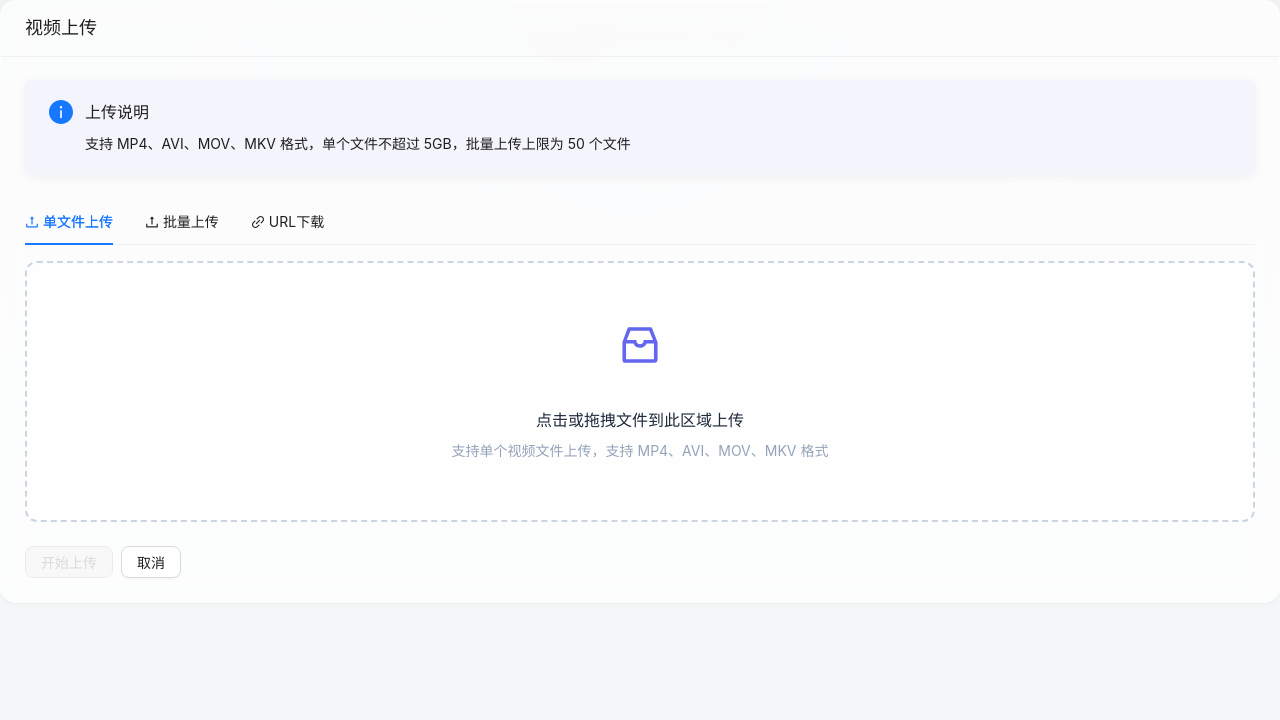
it: 文件上传交互测试 - File Upload Interactions › 应该能够切换到批量上传标签页
The image size is (1280, 720).
Click the tab "批量上传" at (182, 222), box [145,211,219,233]
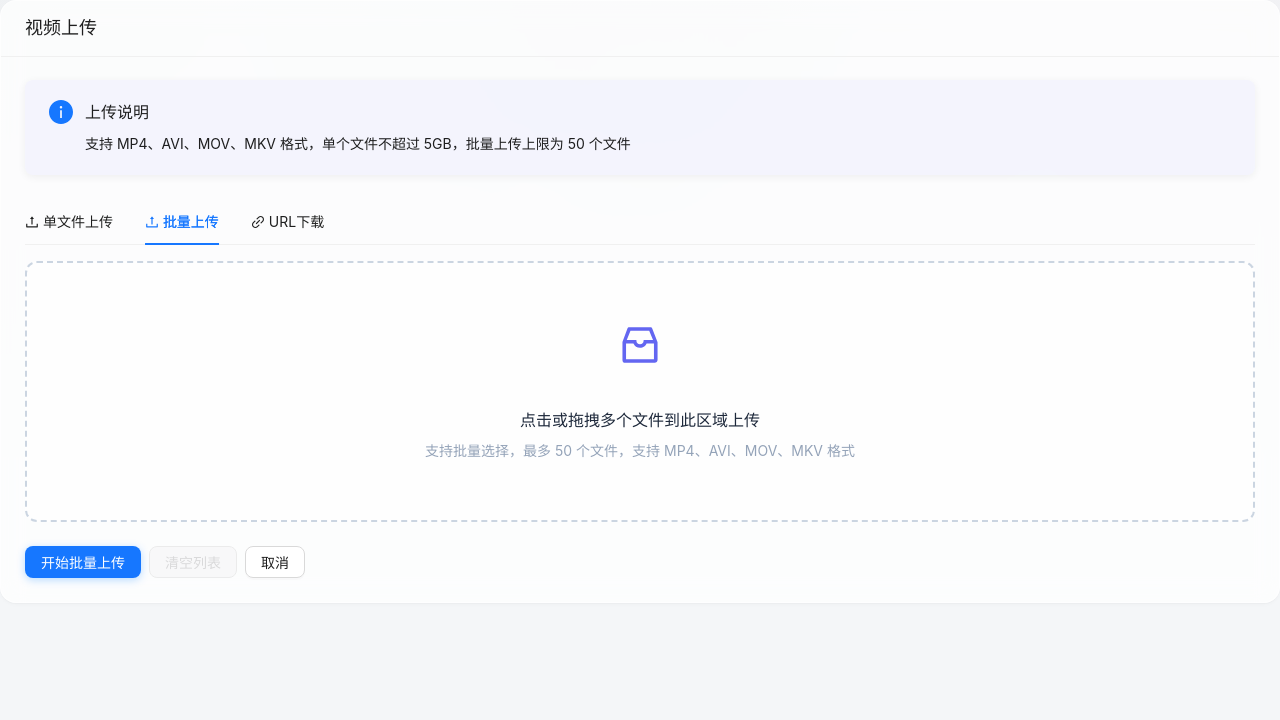
Expected: the text "支持批量选择，最多 50 个文件，支持 MP4、AVI、MOV、MKV 格式" is shown, [425,442,855,459]
